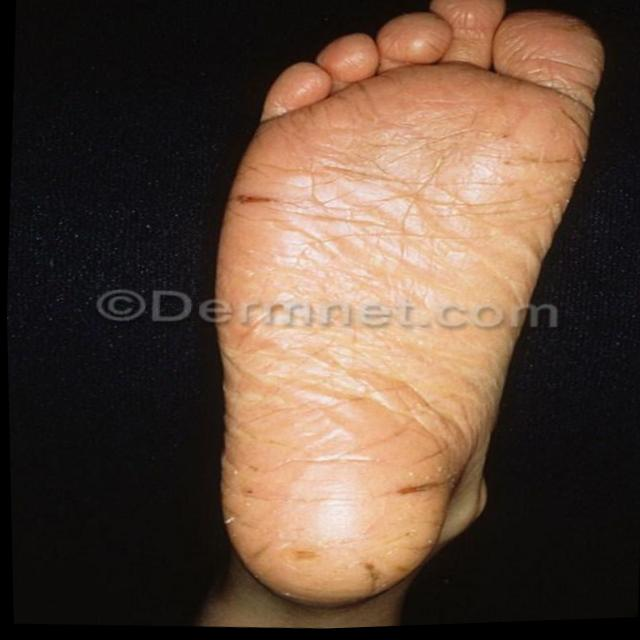liquenificacion 1: (224, 0, 602, 435)
